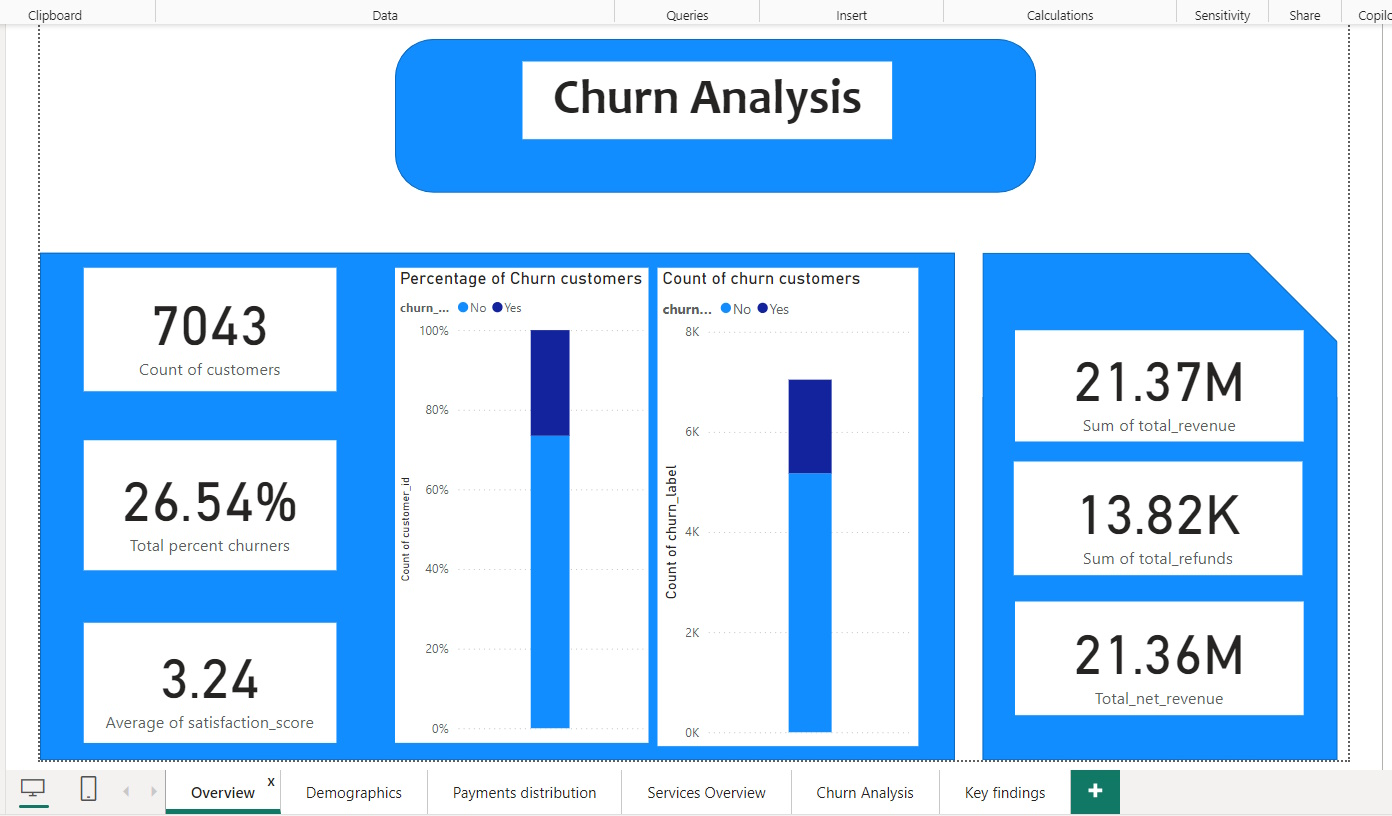

Layout of this report page (visuals, bound fields, positions):
{"tool":"powerbi","page":{"name":"Overview","canvas":[1280,720],"ordinal":0},"visuals":[{"type":"shape","box":[347.3,14.7,627.3,150.4],"z":0},{"type":"shape","box":[922,223.8,347.3,496.5],"z":1000,"group":"g1"},{"type":"shape","box":[0,223.8,895.1,496.5],"z":1000},{"type":"card","fields":{"Values":["Sum(Payment_Info.total_revenue)"]},"box":[953.8,299.9,282.5,108.8],"z":2000,"group":"g1"},{"type":"card","fields":{"Values":["Count(Payment_Info.customer_id)"]},"box":[42.8,238.5,247,121.1],"z":2000},{"type":"hundredPercentStackedColumnChart","title":"Percentage of Churn customers","fields":{"Y":["Count(Payment_Info.customer_id)"],"Series":["Status_Analysis.churn_label"]},"box":[347.3,238.5,248.2,464.7],"z":3000},{"type":"card","fields":{"Values":["Status_Analysis.Total percent churners"]},"box":[42.8,407.2,247,127.2],"z":4000},{"type":"card","fields":{"Values":["Avg(Status_Analysis.satisfaction_score)"]},"box":[42.8,585.7,247,117.4],"z":5000},{"type":"textbox","box":[472,36.7,362,75.8],"z":6000},{"type":"group","id":"g1","title":"Group 1","box":[922,223.8,347.3,496.5],"z":7000},{"type":"card","fields":{"Values":["Sum(Payment_Info.total_refunds)"]},"box":[952.6,428.3,282.5,111.3],"z":8000,"group":"g1"},{"type":"columnChart","title":"Count of churn customers","fields":{"Y":["CountNonNull(Status_Analysis.churn_label)"],"Series":["Status_Analysis.churn_label"]},"box":[604.1,238.5,255.6,468.3],"z":8000},{"type":"card","fields":{"Values":["Payment_Info.Total_net_revenue"]},"box":[953.8,564.9,282.5,111.3],"z":10001}]}

Visuals, with their boxes in screenshot pixels (x1, y1, x2, y2):
shape: 392,29,1041,185
shape: 986,246,1346,760
shape: 33,246,959,760
card - Sum(Payment_Info.total_revenue): 1019,325,1312,437
card - Count(Payment_Info.customer_id): 77,261,333,386
"Percentage of Churn customers" hundredPercentStackedColumnChart: 392,261,649,742
card - Status_Analysis.Total percent churners: 77,436,333,567
card - Avg(Status_Analysis.satisfaction_score): 77,620,333,742
textbox: 521,52,895,131
"Group 1" group: 986,246,1346,760
card - Sum(Payment_Info.total_refunds): 1018,458,1310,573
"Count of churn customers" columnChart: 658,261,922,746
card - Payment_Info.Total_net_revenue: 1019,599,1312,714
